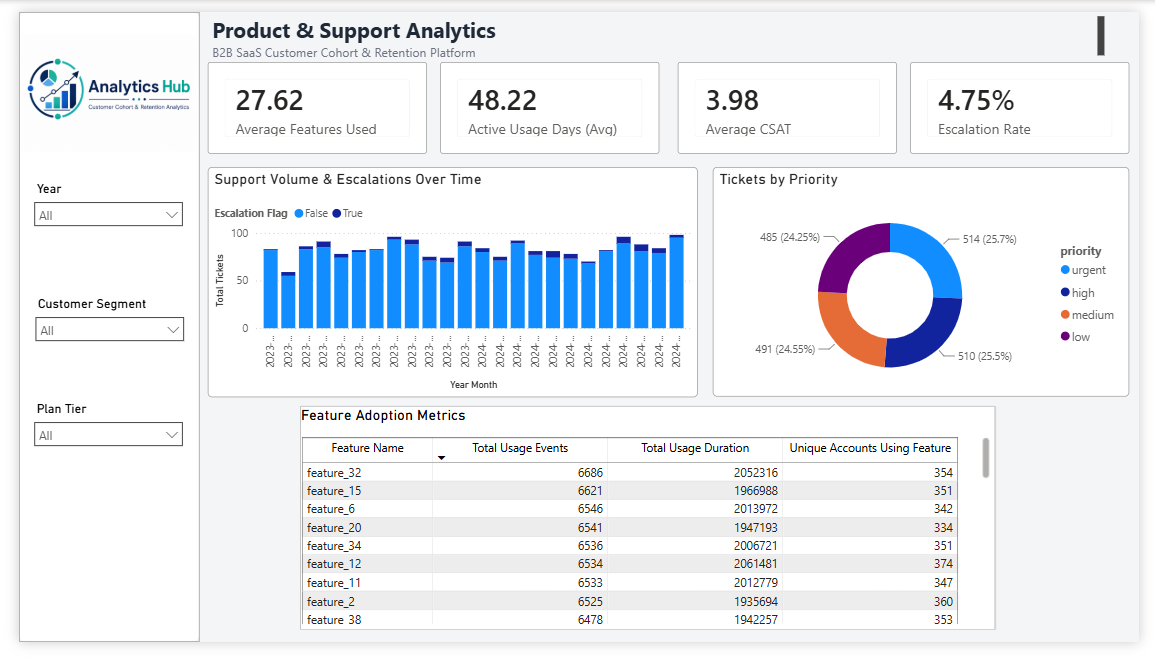

The page's visual inventory and layout, read from the dashboard file:
{"tool":"powerbi","page":{"name":"04.Product & Support","canvas":[1280,720],"ordinal":3},"visuals":[{"type":"shape","title":"Analytics Hub","box":[0,0,206.7,720],"z":0},{"type":"slicer","fields":{"Values":["Dim_Calendar.Year"]},"box":[6.7,188.3,190,80],"z":1000},{"type":"slicer","fields":{"Values":["Dim_Account.Customer Segment"]},"box":[8.3,320,190,80],"z":2000},{"type":"slicer","fields":{"Values":["Dim_Account.plan_tier"]},"box":[6.7,440,190,80],"z":3000},{"type":"image","box":[3.3,6.7,200,170],"z":4000},{"type":"cardVisual","fields":{"Data":["Fact_FeatureUsage.Average Features per Customer"]},"box":[215.7,57.1,250,105],"z":5000},{"type":"cardVisual","fields":{"Data":["Fact_FeatureUsage.Active Usage Days"]},"box":[481.4,57.1,250,105],"z":6000},{"type":"cardVisual","fields":{"Data":["Fact_SupportTickets.Average CSAT"]},"box":[752.9,57.1,250,105],"z":7000},{"type":"cardVisual","fields":{"Data":["Fact_SupportTickets.Escalation Rate"]},"box":[1018.6,57.1,250,105],"z":8000},{"type":"textbox","box":[216.2,0,1030,57.5],"z":9000},{"type":"columnChart","title":"Support Volume & Escalations Over Time","fields":{"Category":["Dim_Calendar.Year Month"],"Y":["Fact_SupportTickets.Total Tickets"],"Series":["Fact_SupportTickets.escalation_flag"]},"box":[215.7,177.1,560,262.9],"z":10000},{"type":"donutChart","title":"Tickets by Priority","fields":{"Category":["Fact_SupportTickets.priority"],"Y":["Fact_SupportTickets.Total Tickets"]},"box":[792.5,177.5,476.2,262.5],"z":11000},{"type":"tableEx","title":"Feature Adoption Metrics","fields":{"Values":["Fact_FeatureUsage.feature_name","Fact_FeatureUsage.Total Usage Events","Fact_FeatureUsage.Total Usage Duration","Fact_FeatureUsage.Unique Accounts Using Feature"]},"box":[321.4,450,794.3,255.7],"z":12000}]}

Visuals, with their boxes in screenshot pixels (x1, y1, x2, y2), scaled from the page's 1280x720 canvas onto the 1155x659 screenshot:
"Analytics Hub" shape: [left=0, top=0, right=187, bottom=658]
slicer - Dim_Calendar.Year: [left=6, top=172, right=177, bottom=246]
slicer - Dim_Account.Customer Segment: [left=7, top=293, right=179, bottom=366]
slicer - Dim_Account.plan_tier: [left=6, top=403, right=177, bottom=476]
image: [left=3, top=6, right=183, bottom=162]
cardVisual - Fact_FeatureUsage.Average Features per Customer: [left=195, top=52, right=420, bottom=148]
cardVisual - Fact_FeatureUsage.Active Usage Days: [left=434, top=52, right=660, bottom=148]
cardVisual - Fact_SupportTickets.Average CSAT: [left=679, top=52, right=905, bottom=148]
cardVisual - Fact_SupportTickets.Escalation Rate: [left=919, top=52, right=1145, bottom=148]
textbox: [left=195, top=0, right=1125, bottom=53]
"Support Volume & Escalations Over Time" columnChart: [left=195, top=162, right=700, bottom=403]
"Tickets by Priority" donutChart: [left=715, top=162, right=1145, bottom=403]
"Feature Adoption Metrics" tableEx: [left=290, top=412, right=1007, bottom=646]
